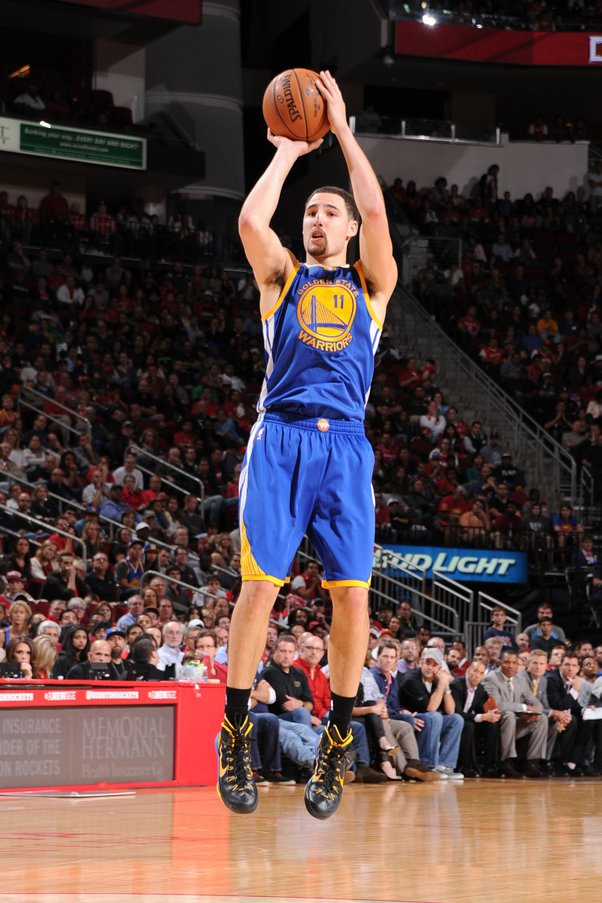Jumpshot: (239, 67, 398, 271)
